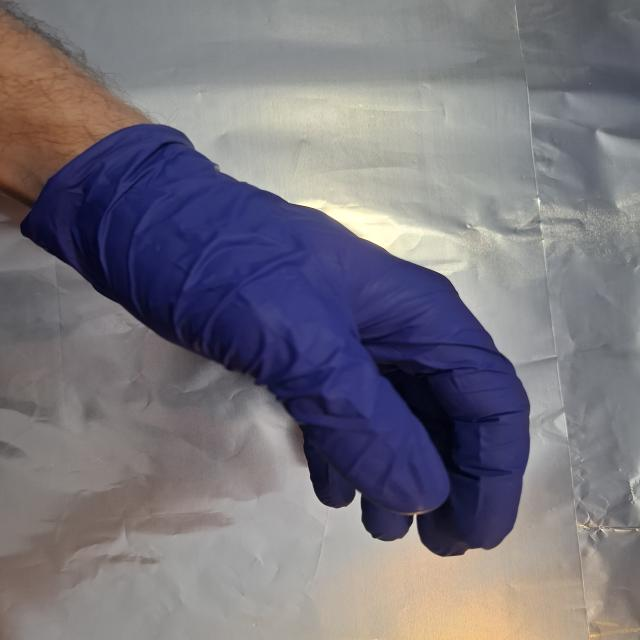glove_on: (36, 125, 536, 561)
